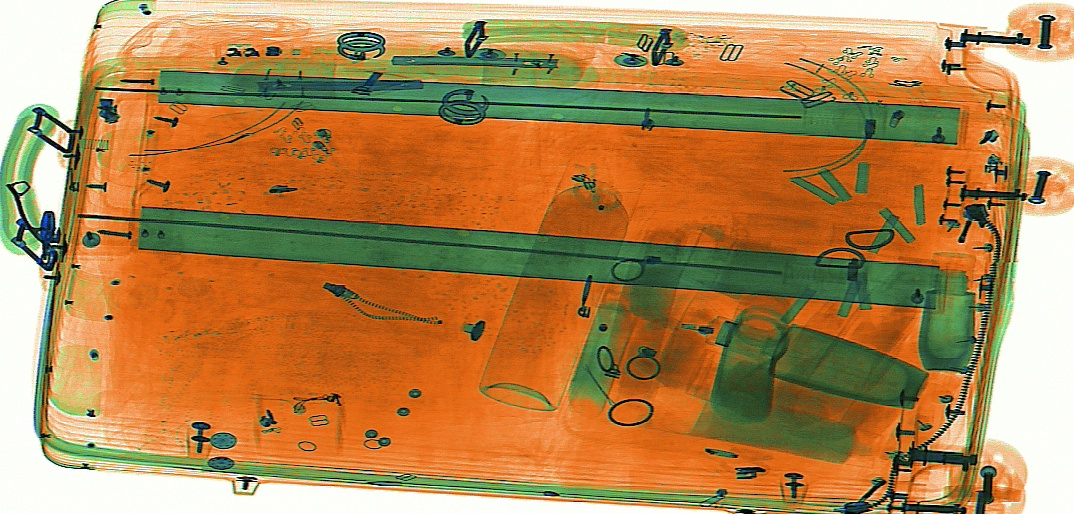pressure: (475, 150, 643, 417)
